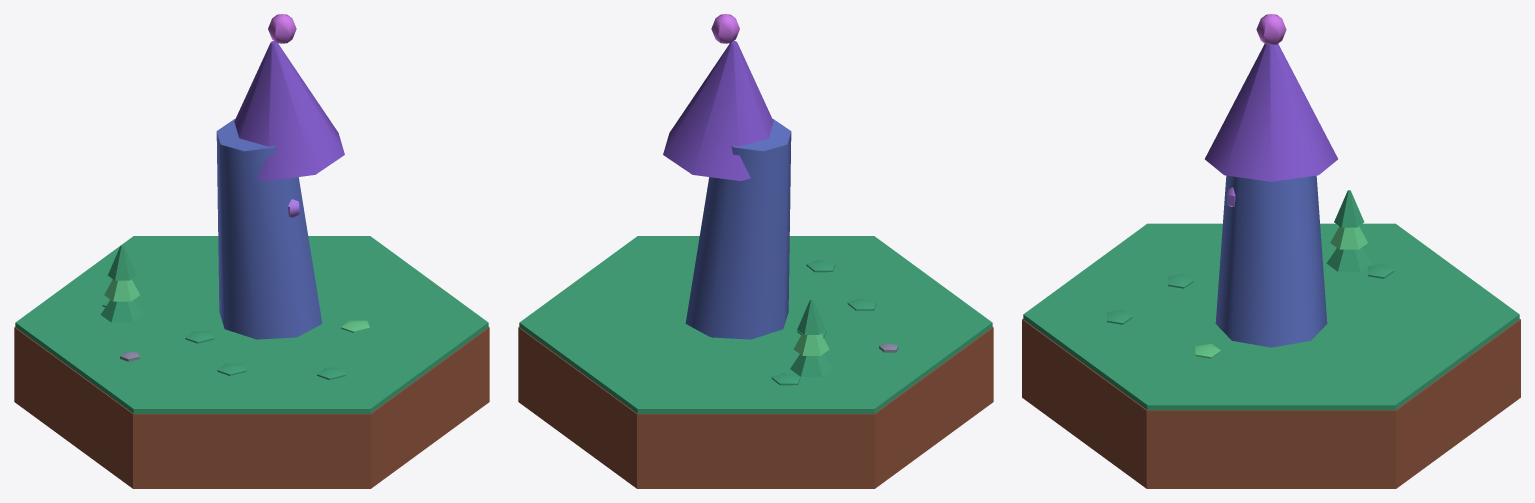
Rendered from building-wizard-tower.glb.
The picture shows the model from 3 angles, left to right: view 1: azimuth 30°, elevation 25°; view 2: azimuth 150°, elevation 25°; view 3: azimuth 270°, elevation 25°; orthographic projection. The views are drawn at different scales.
Visible parts, largest first — view 1: building_wizard_tower; view 2: building_wizard_tower; view 3: building_wizard_tower.
Boxes of the visible parts, x1,y1,x2,y2 form: building_wizard_tower: [14, 14, 489, 488]; building_wizard_tower: [518, 14, 993, 488]; building_wizard_tower: [1022, 14, 1520, 488].
Bounding box in the file's own units: 1 × 1.02 × 1.15.
Materials: 1 (1 with a texture image).
